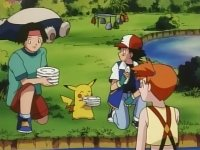pikachu: (59, 79, 98, 121)
